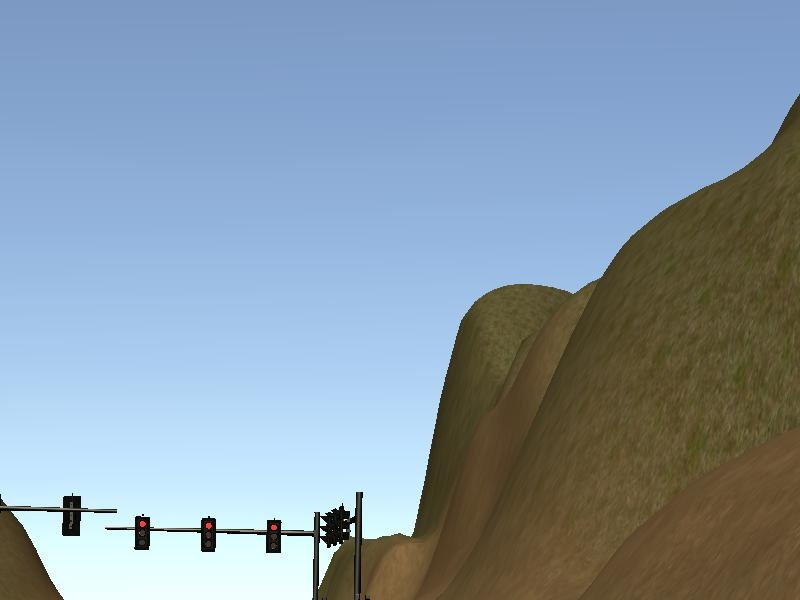red: (200, 516, 217, 552), (267, 521, 282, 551), (136, 515, 148, 548)
